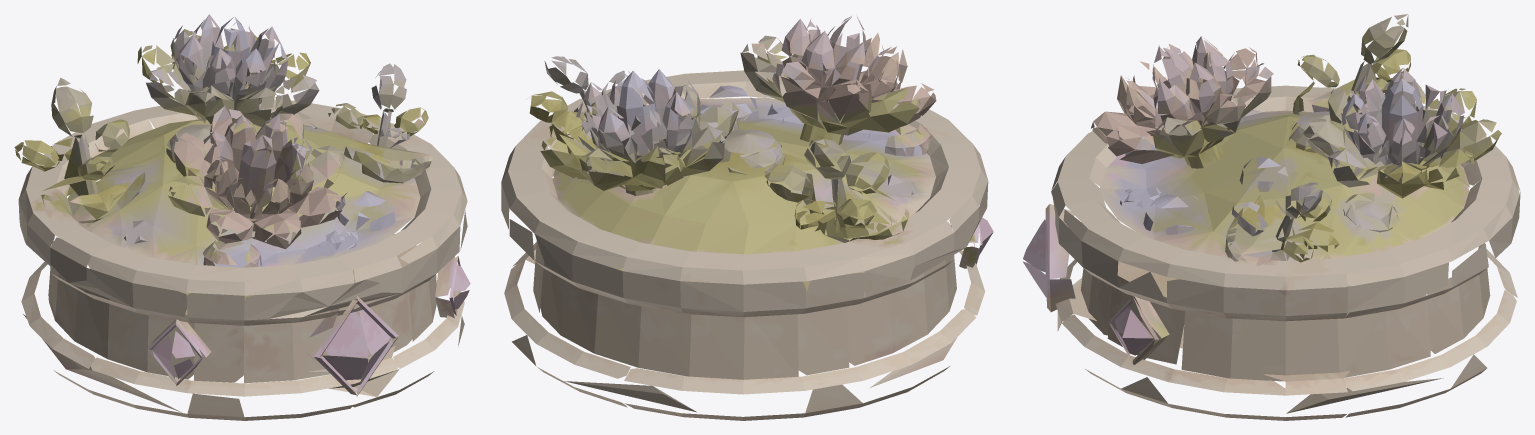
The model's file is g_e_planter.glb.
The picture shows the model from 3 angles, left to right: view 1: azimuth 30°, elevation 25°; view 2: azimuth 150°, elevation 25°; view 3: azimuth 270°, elevation 25°; orthographic projection. The views are drawn at different scales.
Parts seen in each view (by area): view 1: geometry_0; view 2: geometry_0; view 3: geometry_0.
Boxes of the visible parts, x1,y1,x2,y2 form: geometry_0: (14,14,470,420); geometry_0: (501,16,993,420); geometry_0: (1023,14,1520,420).
Size of the model in its own units: 0.1724 by 0.1113 by 0.1844.
